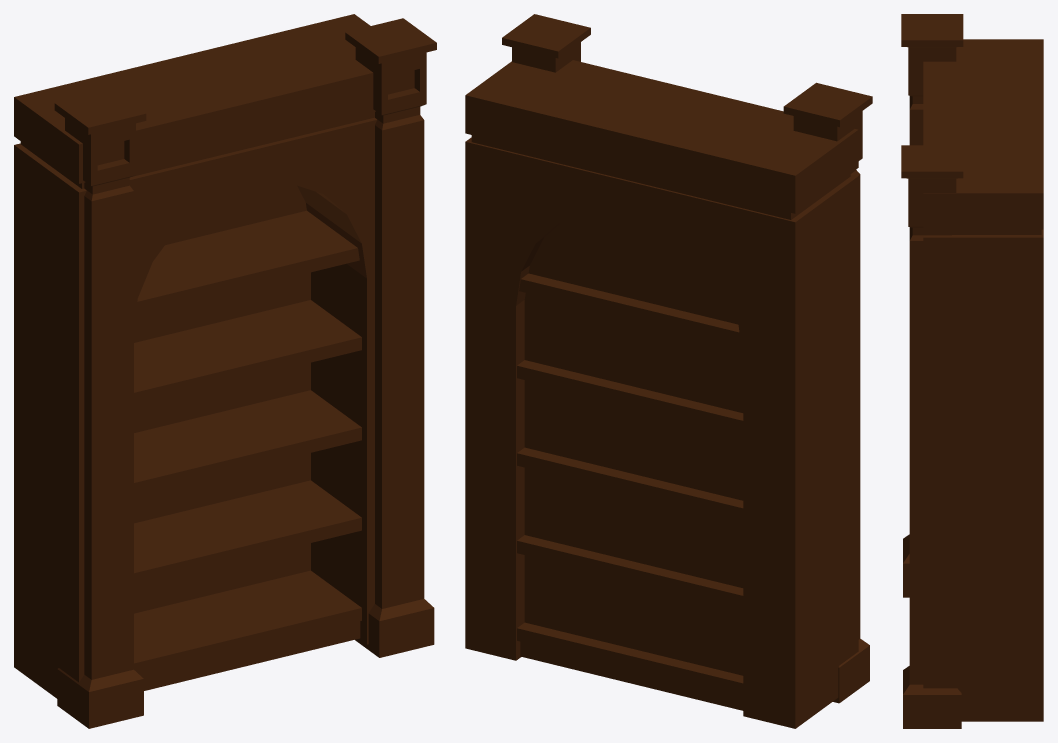
Rendered from Bibliotheque.fbx.
3 views of the same model, side by side, from view 1: azimuth 30°, elevation 25°; view 2: azimuth 150°, elevation 25°; view 3: azimuth 270°, elevation 25° (orthographic). The views are drawn at different scales.
Parts seen in each view (by area): view 1: bibliotheque; view 2: bibliotheque; view 3: bibliotheque.
Part boxes in pixels (x1,y1,x2,y2): bibliotheque: [14, 14, 436, 728]; bibliotheque: [465, 14, 872, 728]; bibliotheque: [901, 14, 1043, 728].
Size of the model in its own units: 156 by 257 by 59.44.
